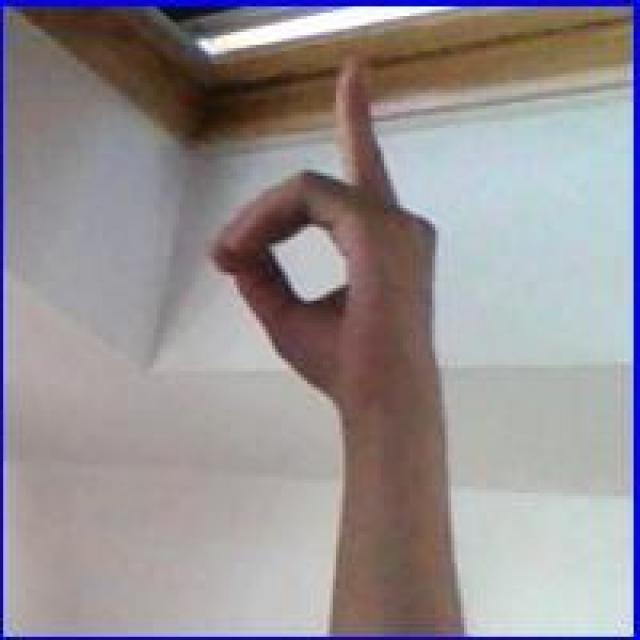D: (203, 41, 443, 438)
